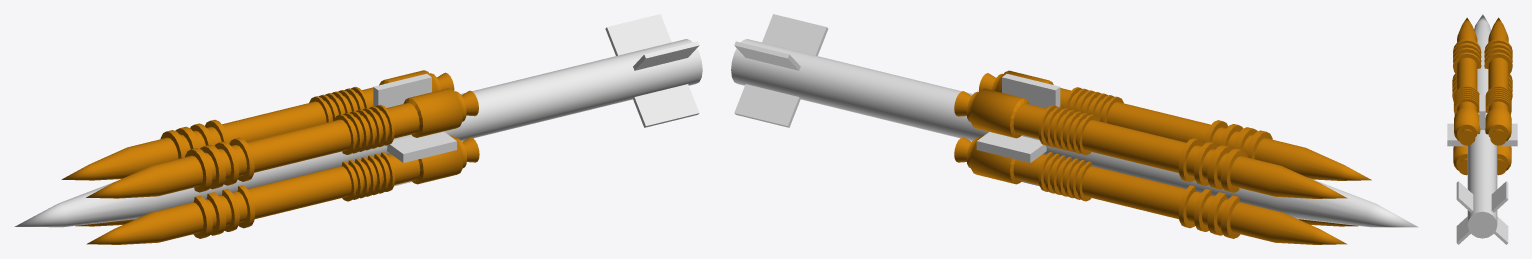
Rendered from SAMUV.fbx.
3 views of the same model, side by side, from view 1: azimuth 30°, elevation 25°; view 2: azimuth 150°, elevation 25°; view 3: azimuth 270°, elevation 25° (orthographic). The views are drawn at different scales.
Visible parts, largest first — view 1: SAM, booster1, booster2, booster4, fins.002, fins.001, fins, fins.003; view 2: SAM, booster4, booster3, booster1, fins.003, fins.001, fins, fins.002; view 3: SAM, booster4, booster1, fins.002, fins.003, booster2, booster3, fins.001, fins.
Part boxes in pixels (x1=…): SAM: x1=14, y1=39, x2=702, y2=227; booster1: x1=86, y1=88, x2=478, y2=198; booster2: x1=86, y1=135, x2=479, y2=244; booster4: x1=61, y1=70, x2=454, y2=180; fins.002: x1=605, y1=14, x2=699, y2=127; fins.001: x1=387, y1=131, x2=456, y2=162; fins: x1=373, y1=73, x2=431, y2=186; fins.003: x1=633, y1=41, x2=699, y2=70; SAM: x1=731, y1=39, x2=1418, y2=227; booster4: x1=954, y1=88, x2=1347, y2=198; booster3: x1=954, y1=135, x2=1347, y2=244; booster1: x1=978, y1=70, x2=1371, y2=180; fins.003: x1=734, y1=14, x2=828, y2=127; fins.001: x1=976, y1=132, x2=1046, y2=162; fins: x1=1002, y1=74, x2=1060, y2=186; fins.002: x1=734, y1=41, x2=800, y2=70; SAM: x1=1467, y1=14, x2=1497, y2=238; booster4: x1=1484, y1=17, x2=1512, y2=145; booster1: x1=1453, y1=17, x2=1481, y2=145; fins.002: x1=1456, y1=181, x2=1508, y2=244; fins.003: x1=1456, y1=181, x2=1508, y2=244; booster2: x1=1452, y1=73, x2=1467, y2=175; booster3: x1=1497, y1=74, x2=1512, y2=175; fins.001: x1=1447, y1=123, x2=1517, y2=146; fins: x1=1479, y1=94, x2=1485, y2=130.
Size of the model in its own units: 421 by 59.36 by 59.36.
